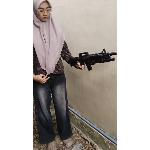Senapan: (65, 44, 117, 72)
